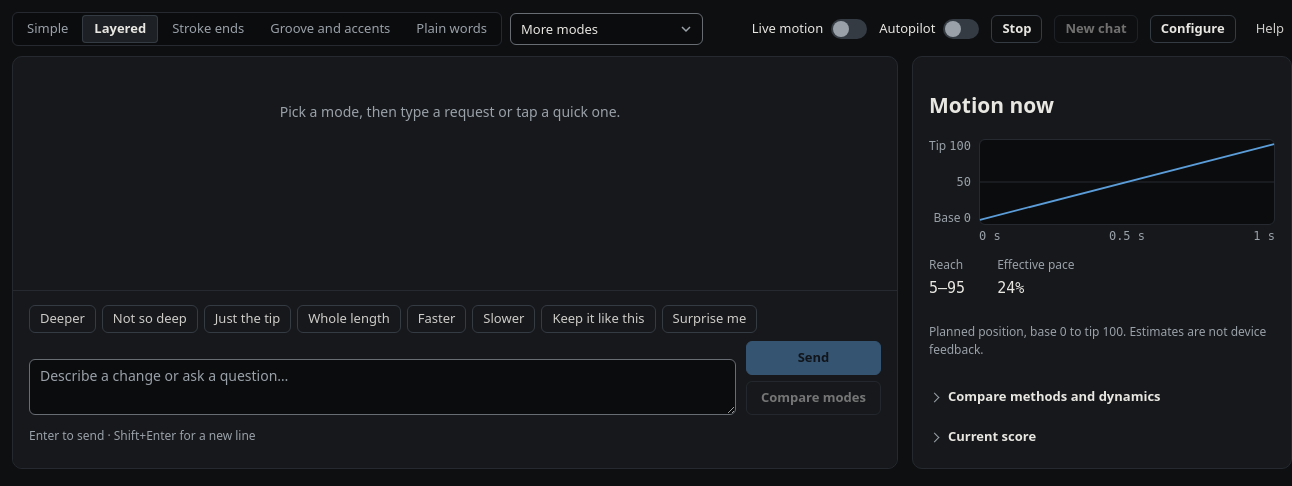
Scenario: streamlined LLM Lab › cancels generation and keeps the draft without starting motion
This screenshot has width=1292, height=486.
Expected: the text "Pick a mode, then type a request or tap a quick one." is shown, [280,102,620,121]
Type "Change reach gradually" into the text box named "Message" at [382, 387], box [29,359,736,415]
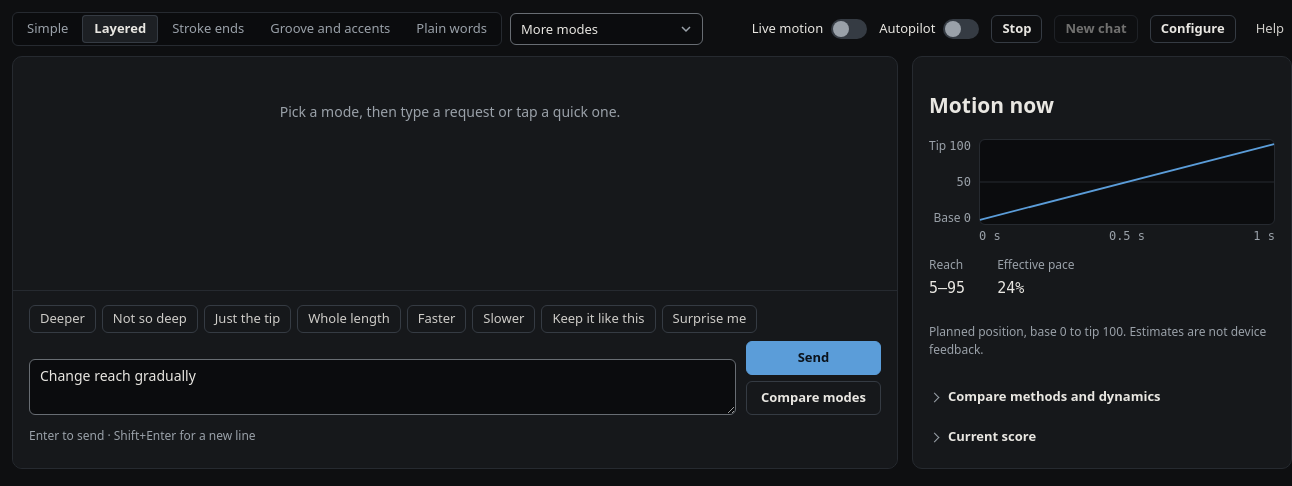
Click the button "Send" at [813, 358], box [746,341,881,375]
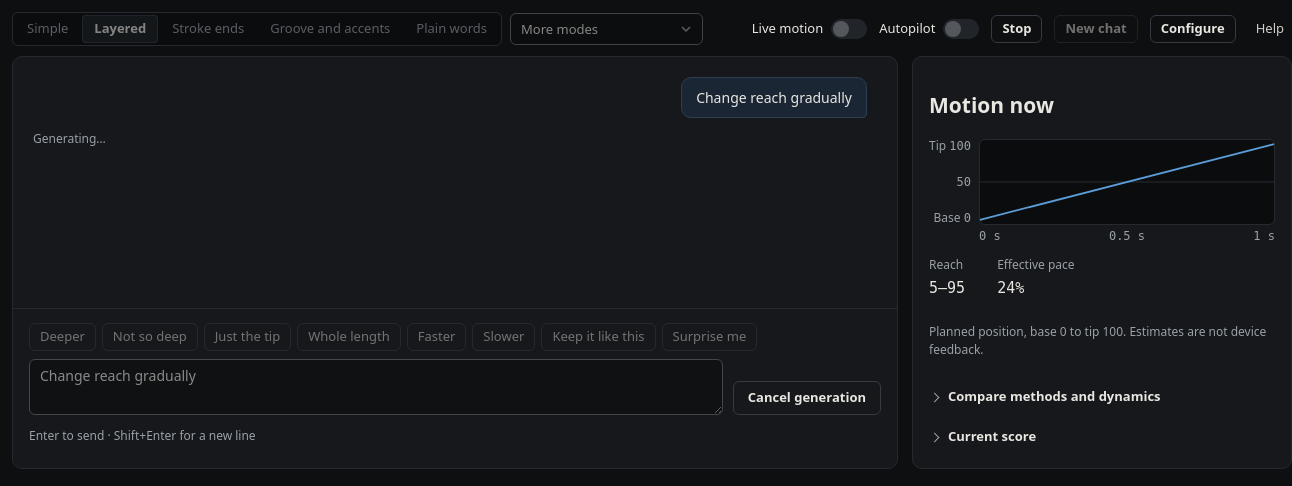
Click the button "Cancel generation" at [807, 398], box [733,381,881,415]
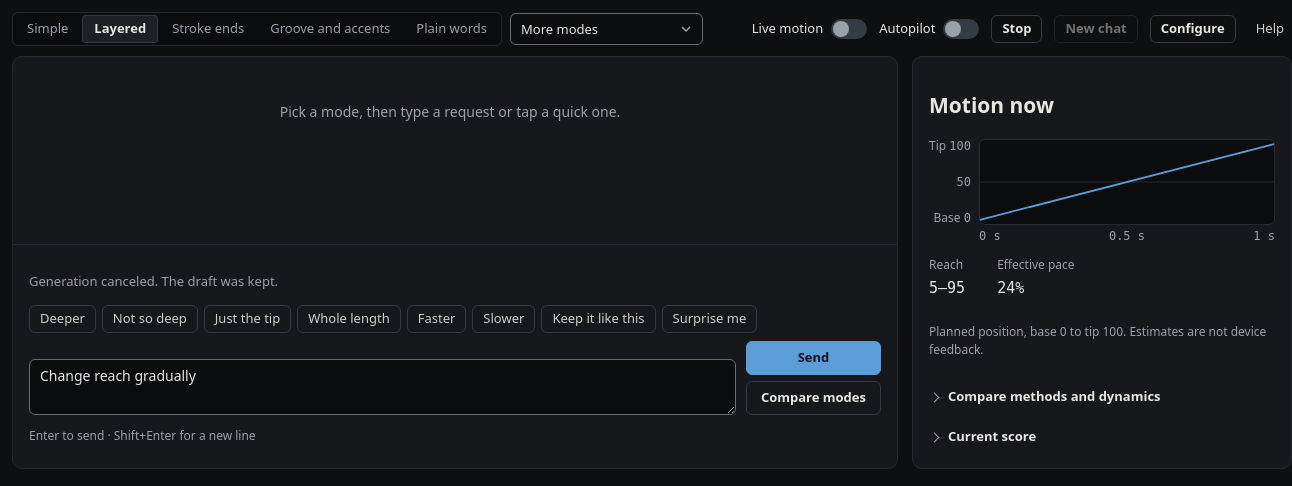
Now the text "Generation canceled. The draft was kept." is shown, box [29,272,278,290]
